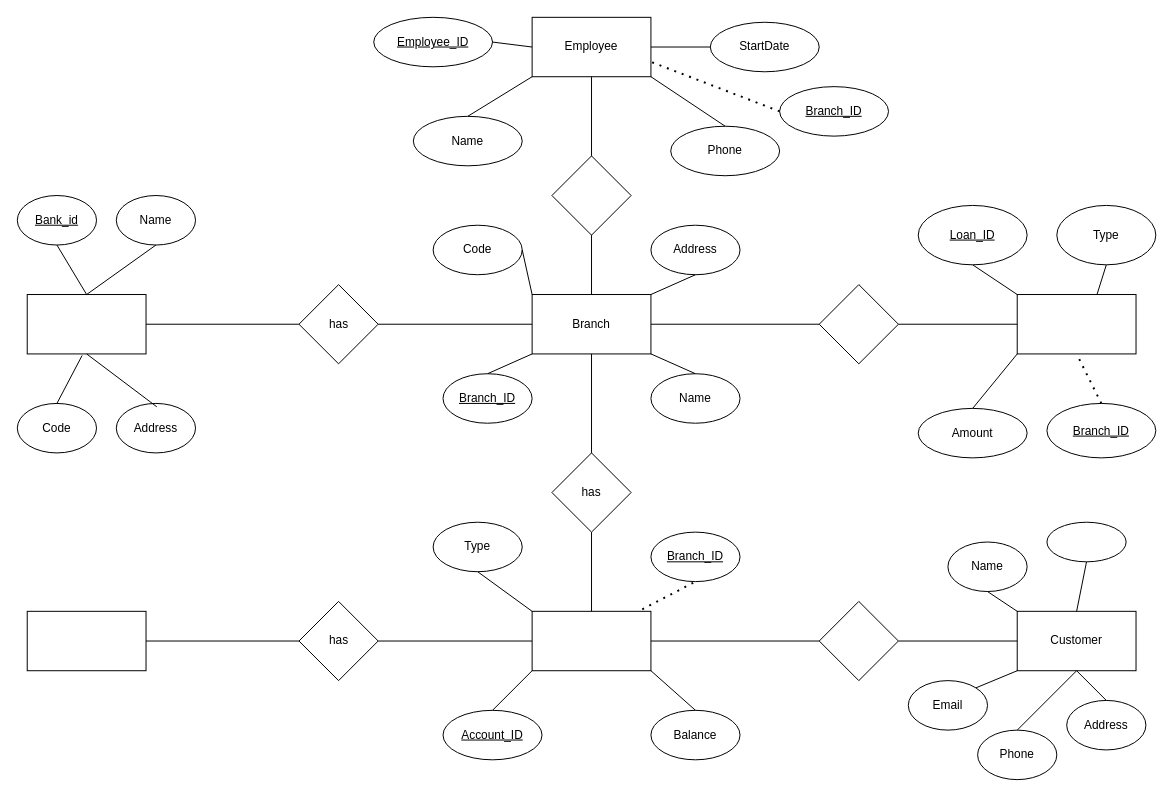
Some shapes in this 1173 by 797 pixel diagram are drawn without their labels. The box of each missing label's shape, as (x1, y1, x2, y2) in pixels:
Account: (531, 610, 651, 671)
Bank: (26, 294, 146, 354)
Customer_ID: (1046, 521, 1126, 562)
grant: (818, 284, 898, 364)
hold: (818, 600, 898, 681)
Loan: (1016, 294, 1136, 354)
User: (26, 610, 146, 671)
Works: (551, 155, 631, 235)
